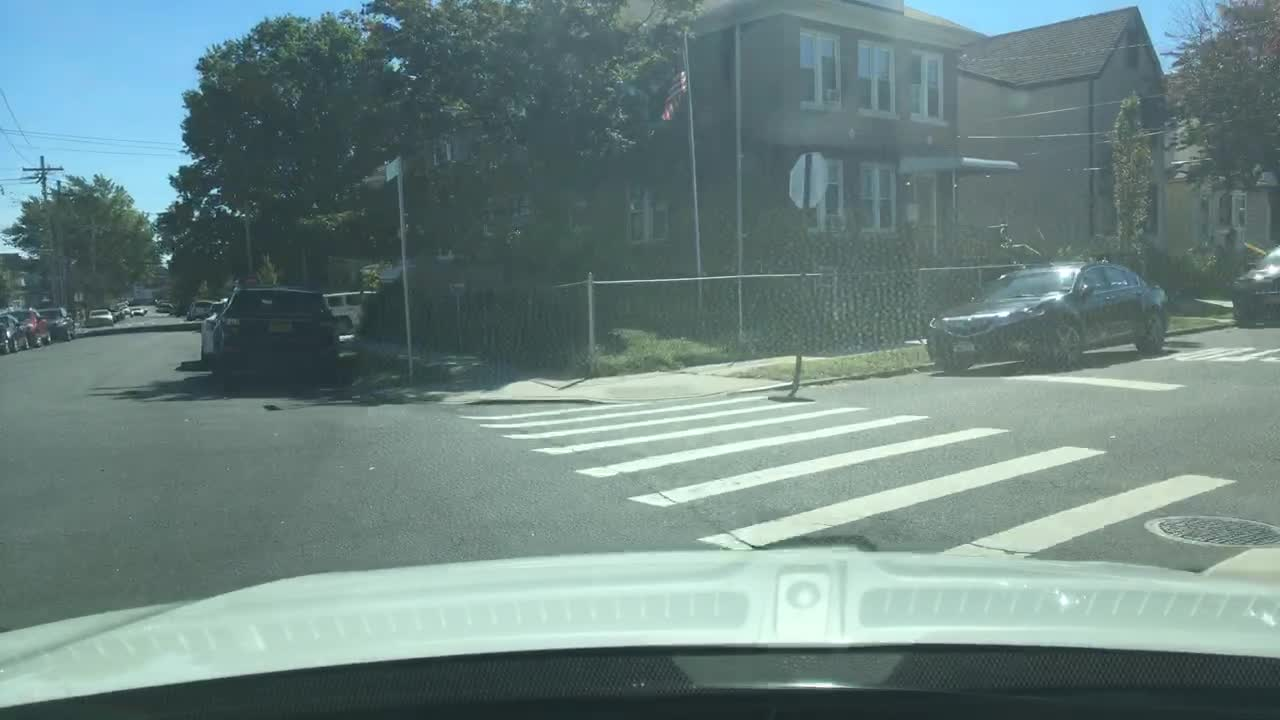car: (923, 256, 1172, 376), (209, 283, 343, 389), (1230, 241, 1278, 326), (321, 287, 376, 336), (201, 295, 230, 368), (6, 306, 53, 348), (0, 311, 32, 355), (37, 306, 76, 342), (188, 296, 215, 321), (85, 306, 114, 328), (110, 308, 128, 322), (129, 305, 146, 318), (157, 301, 175, 313), (120, 304, 132, 314)
traffic sign: (787, 149, 830, 210), (382, 158, 399, 184), (72, 290, 85, 302)
